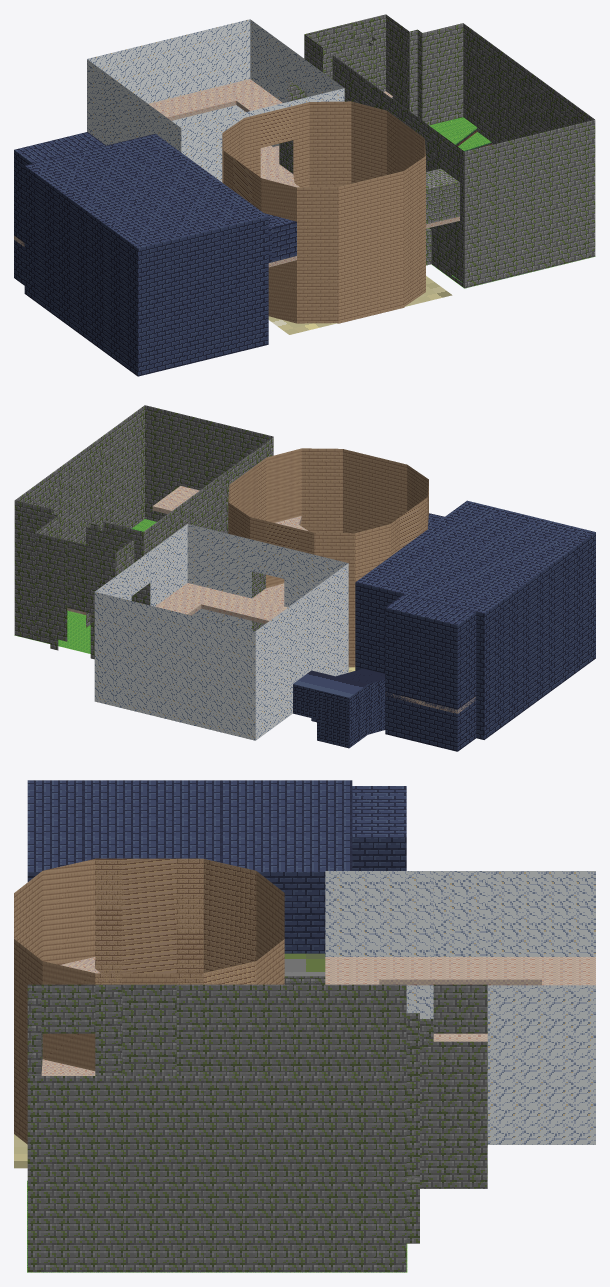
Rendered from noob-level-map.glb.
3 views of the same model, one above another, from view 1: azimuth 30°, elevation 25°; view 2: azimuth 150°, elevation 25°; view 3: azimuth 270°, elevation 25° (orthographic). The views are drawn at different scales.
Parts seen in each view (by area): view 1: Yard-Wall, Circle-Wall.002, Foundry-Wall, Gallery-Wall, Foundry-Roof, Gallery-Ramp, Circle-Coridors, Yard-hill-top, Plane, Circle-Ramp; view 2: Gallery-Wall, Yard-Wall, Foundry-Wall, Circle-Wall.002, Foundry-Roof, Foundry-Gallery-Strairs, Gallery-Ramp, Yard-Floor, Yard-Ramp, Circle-Coridors; view 3: Yard-Wall, Gallery-Wall, Circle-Wall.002, Foundry-Roof, Gallery-Ramp, Foundry-Wall, Circle-Coridors, Circle-Ramp.
Part boxes in pixels (bbox=[...]): Yard-Wall: bbox=[288, 14, 595, 288]; Circle-Wall.002: bbox=[222, 101, 425, 323]; Foundry-Wall: bbox=[14, 150, 268, 376]; Gallery-Wall: bbox=[87, 19, 344, 182]; Foundry-Roof: bbox=[14, 132, 268, 248]; Gallery-Ramp: bbox=[148, 79, 292, 180]; Circle-Coridors: bbox=[264, 140, 459, 265]; Yard-hill-top: bbox=[429, 117, 491, 151]; Plane: bbox=[268, 276, 452, 334]; Circle-Ramp: bbox=[270, 174, 459, 266]; Gallery-Wall: bbox=[94, 524, 348, 740]; Yard-Wall: bbox=[14, 405, 273, 659]; Foundry-Wall: bbox=[355, 532, 595, 751]; Circle-Wall.002: bbox=[228, 448, 428, 667]; Foundry-Roof: bbox=[356, 500, 595, 625]; Foundry-Gallery-Strairs: bbox=[293, 668, 385, 748]; Gallery-Ramp: bbox=[155, 583, 287, 623]; Yard-Floor: bbox=[14, 618, 90, 653]; Yard-Ramp: bbox=[152, 486, 199, 513]; Circle-Coridors: bbox=[252, 513, 444, 630]; Yard-Wall: bbox=[27, 984, 487, 1272]; Gallery-Wall: bbox=[325, 871, 595, 1144]; Circle-Wall.002: bbox=[14, 858, 284, 1144]; Foundry-Roof: bbox=[27, 780, 406, 871]; Gallery-Ramp: bbox=[325, 957, 595, 985]; Foundry-Wall: bbox=[27, 837, 406, 953]; Circle-Coridors: bbox=[41, 953, 325, 1075]; Circle-Ramp: bbox=[41, 957, 100, 1075].
Size of the model in its own units: 56.05 by 18 by 43.01.
11 materials, 11 textured.
